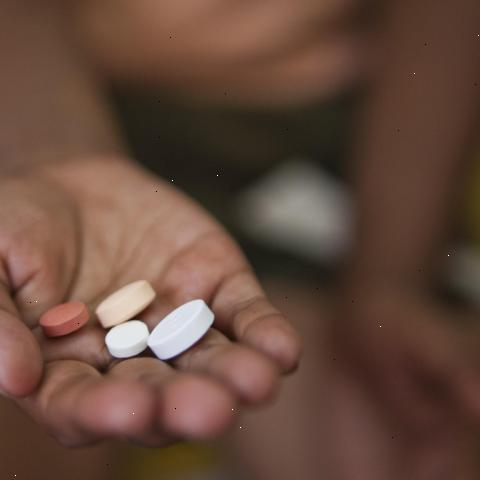Pill: (149, 290, 222, 366), (90, 264, 159, 328), (104, 313, 151, 370)
